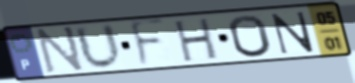F: (128, 16, 168, 71)
H: (173, 16, 221, 64)
N: (35, 25, 87, 76), (269, 10, 317, 56)
O: (226, 13, 275, 59)
U: (71, 22, 125, 72)
